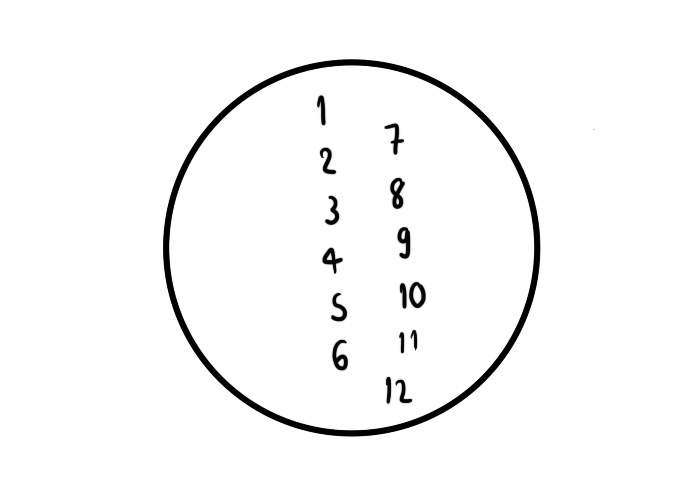eight: (386, 172, 407, 212)
eleven: (393, 326, 422, 357)
five: (327, 288, 351, 324)
four: (318, 244, 344, 278)
nine: (394, 225, 415, 262)
one: (313, 89, 330, 130)
seven: (381, 120, 405, 156)
six: (330, 335, 352, 374)
ten: (396, 279, 430, 313)
three: (324, 192, 341, 229)
twelve: (380, 373, 413, 405)
two: (316, 146, 338, 174)
